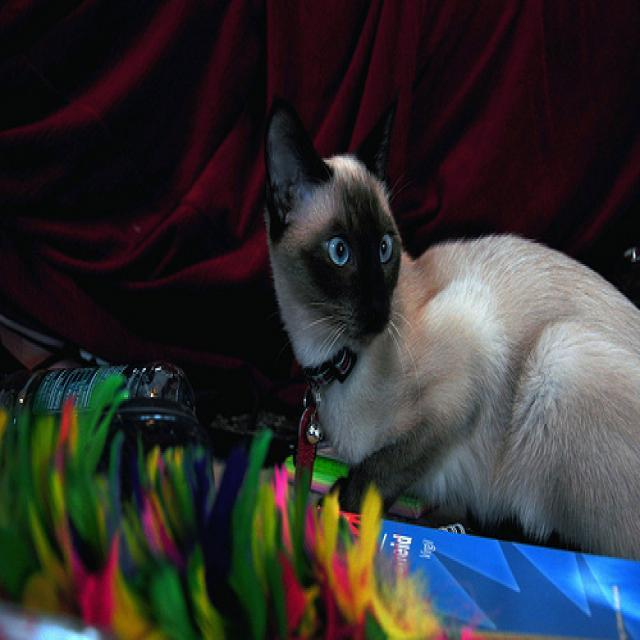Siamese: (261, 80, 407, 351)
